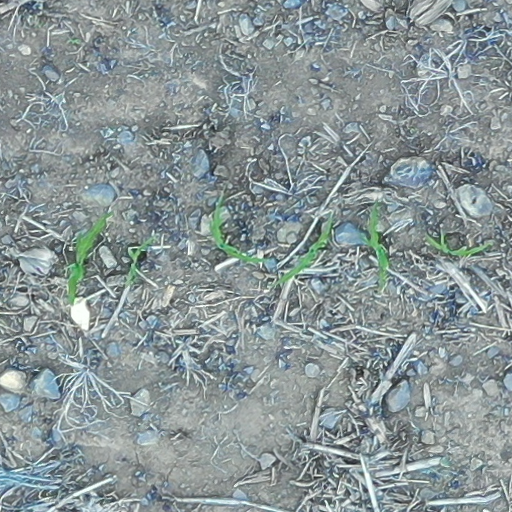planta: (68, 213, 112, 303), (207, 199, 269, 262), (272, 219, 332, 284), (366, 200, 390, 288), (425, 231, 489, 256), (124, 238, 152, 289)
